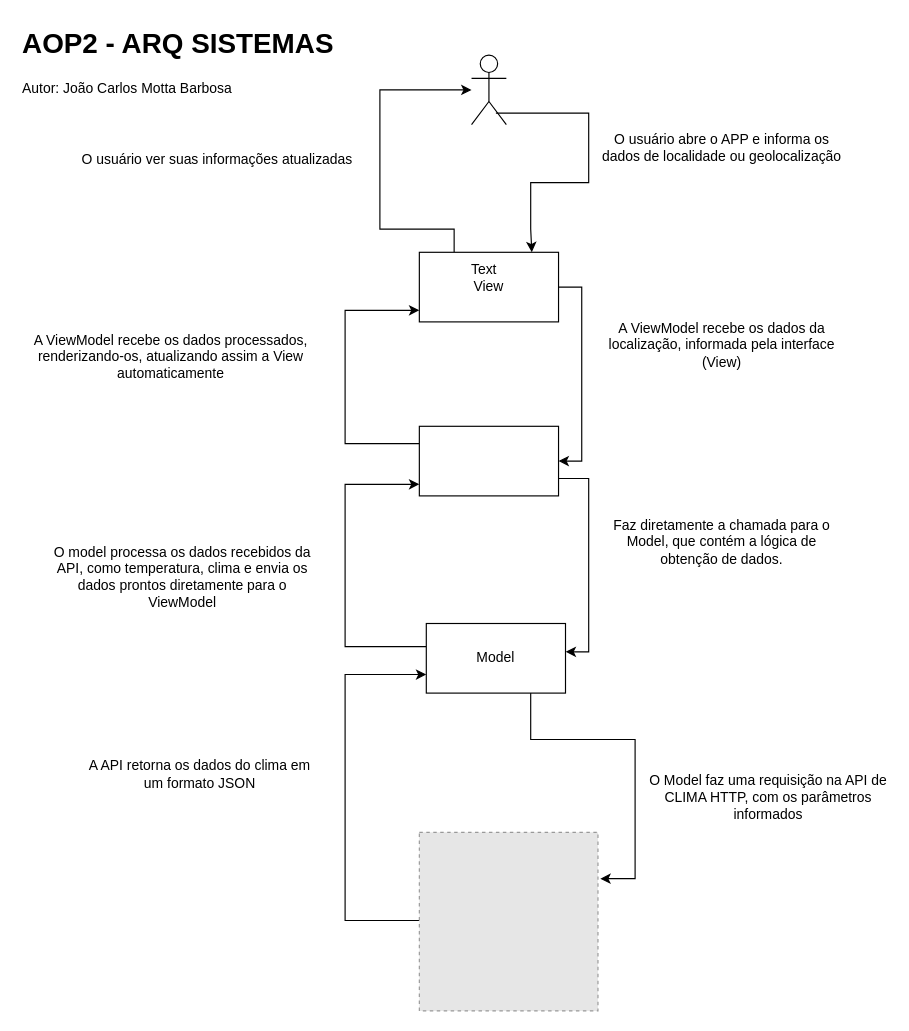
Image size: 909x1031. Some labels were removed from this diagram. Grey dashed boxes stand in for pictures. Here are the shapes that lost their labels. From the top down, the centre of each, then its label:
the point at 488,89: Usuário
the point at 488,460: ViewModel
